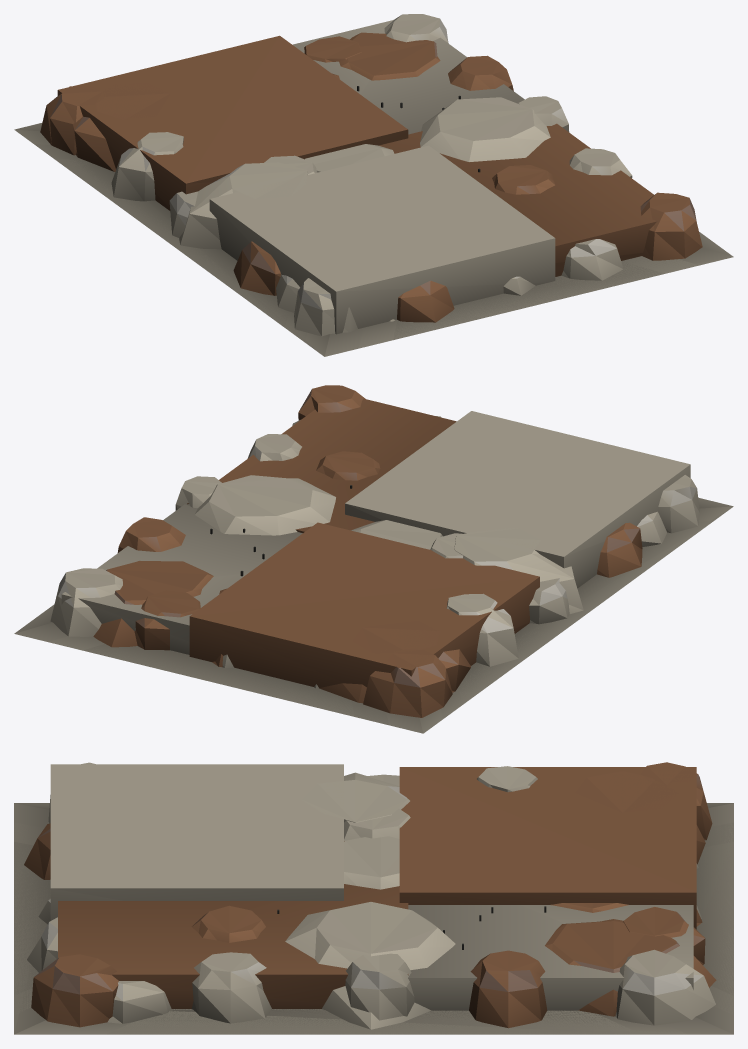
File: neutral_rubble_3x4.glb
3 renders of one model, top to bottom at view 1: azimuth 30°, elevation 25°; view 2: azimuth 150°, elevation 25°; view 3: azimuth 270°, elevation 25°, orthographic. The views are drawn at different scales.
Visible parts, largest first — view 1: body (×3); view 2: body (×3); view 3: body (×3).
Part boxes in pixels (left/top/right/bottom): body (×3): left=14, top=14, right=733, bottom=356; body (×3): left=14, top=385, right=733, bottom=733; body (×3): left=14, top=762, right=733, bottom=1034.
Size of the model in its own units: 8.28 by 0.908 by 10.88.
